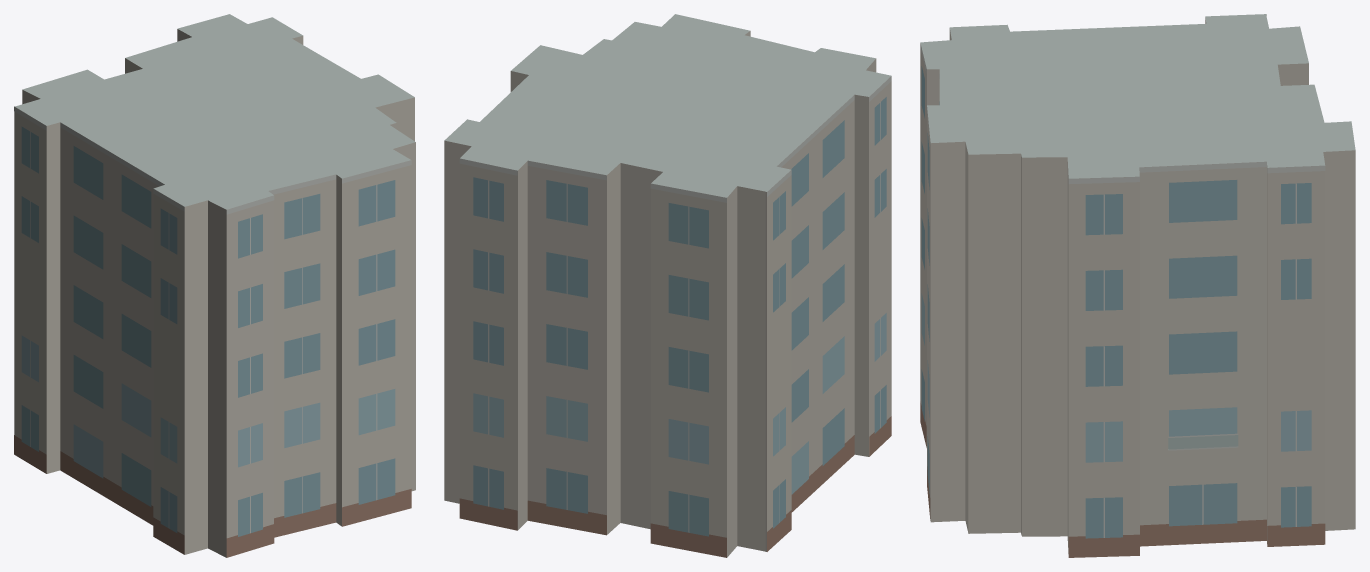
The model's file is survey-upis-32908126.glb.
The picture shows the model from 3 angles, left to right: view 1: azimuth 30°, elevation 25°; view 2: azimuth 150°, elevation 25°; view 3: azimuth 270°, elevation 25°; orthographic projection. The views are drawn at different scales.
Parts seen in each view (by area): view 1: survey-upis-32908126.tmp; view 2: survey-upis-32908126.tmp; view 3: survey-upis-32908126.tmp.
Part boxes in pixels (x1,y1,x2,y2): survey-upis-32908126.tmp: [14, 14, 415, 557]; survey-upis-32908126.tmp: [444, 14, 891, 557]; survey-upis-32908126.tmp: [920, 14, 1355, 557].
Size of the model in its own units: 15.95 by 17.1 by 17.8.
